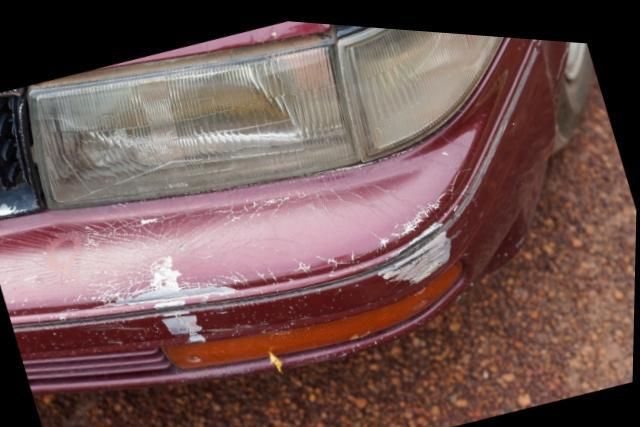scratch: (117, 257, 237, 342), (371, 209, 455, 282)
